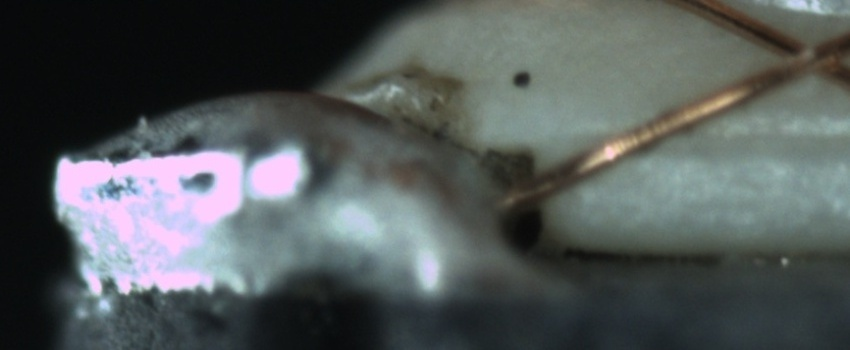CL: (759, 21, 848, 90)
DL: (636, 100, 844, 179)
